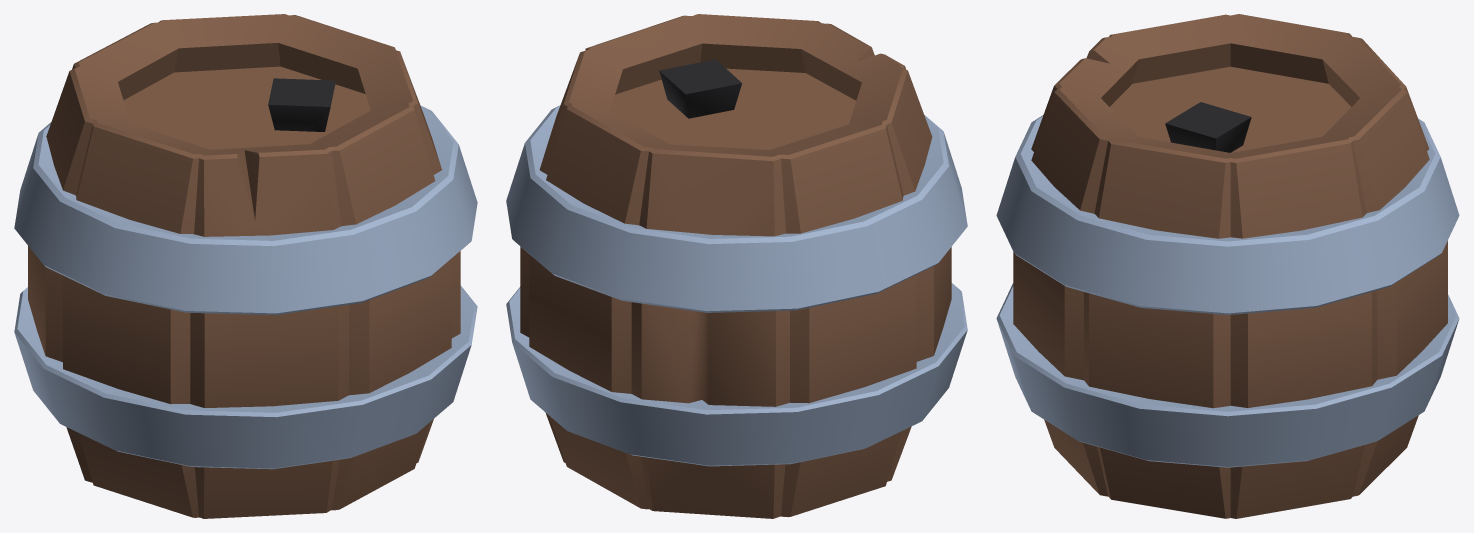
Rendered from Barrel.fbx.
3 renders of one model, left to right at view 1: azimuth 30°, elevation 25°; view 2: azimuth 150°, elevation 25°; view 3: azimuth 270°, elevation 25°, orthographic.
Parts seen in each view (by area): view 1: Barrel; view 2: Barrel; view 3: Barrel.
Boxes of the visible parts, x1,y1,x2,y2 form: Barrel: (14,14,477,518); Barrel: (506,14,967,518); Barrel: (996,14,1459,518).
Bounding box in the file's own units: 1.04 × 1.04 × 0.8947.
